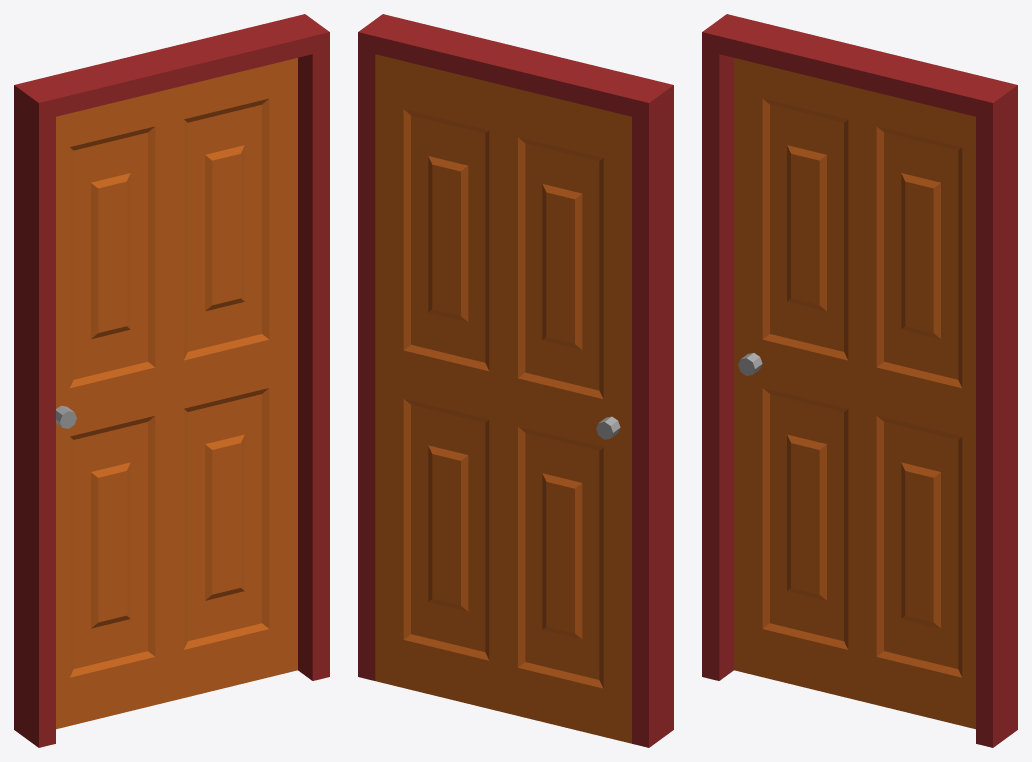
The model's file is SM_Puerta.glb.
3 renders of one model, left to right at view 1: azimuth 30°, elevation 25°; view 2: azimuth 150°, elevation 25°; view 3: azimuth 330°, elevation 25°, orthographic.
Parts seen in each view (by area): view 1: SM_Hoja, SM_Marco_Izq, SM_Marco_Der, SM_Marco_Sup; view 2: SM_Hoja, SM_Marco_Izq, SM_Marco_Sup, SM_Marco_Der; view 3: SM_Hoja, SM_Marco_Der, SM_Marco_Izq, SM_Marco_Sup.
Part boxes in pixels (x1,y1,x2,y2): SM_Hoja: (56,58,297,729); SM_Marco_Izq: (14,103,55,747); SM_Marco_Der: (298,50,329,680); SM_Marco_Sup: (14,14,329,120); SM_Hoja: (375,54,631,743); SM_Marco_Izq: (632,103,673,747); SM_Marco_Sup: (358,14,673,120); SM_Marco_Der: (358,50,375,680); SM_Hoja: (734,58,975,729); SM_Marco_Der: (976,103,1017,747); SM_Marco_Izq: (702,50,733,680); SM_Marco_Sup: (702,14,1017,120).
Size of the model in its own units: 1.02 by 2.16 by 0.195.
